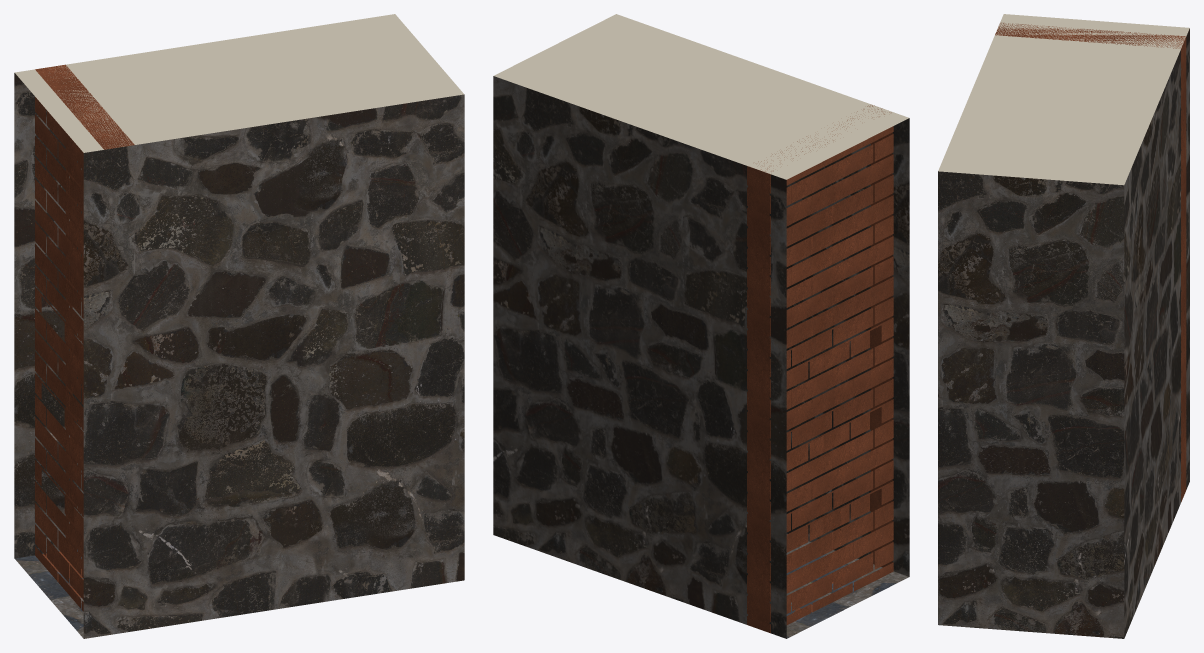
Rendered from komero.glb.
3 views of the same model, side by side, from view 1: azimuth 30°, elevation 25°; view 2: azimuth 150°, elevation 25°; view 3: azimuth 270°, elevation 25° (orthographic). The views are drawn at different scales.
Visible parts, largest first — view 1: komero_architecture, komero_tiilitatto; view 2: komero_architecture, komero_tiilitatto; view 3: komero_architecture, komero_tiilitatto.
Part boxes in pixels (x1,y1,x2,y2): komero_architecture: (14, 14, 464, 638); komero_tiilitatto: (35, 64, 134, 611); komero_architecture: (493, 14, 909, 638); komero_tiilitatto: (747, 105, 893, 633); komero_architecture: (938, 14, 1189, 638); komero_tiilitatto: (995, 22, 1186, 502).
Size of the model in its own units: 1.82 by 2.25 by 1.13.
4 materials, 3 textured.
